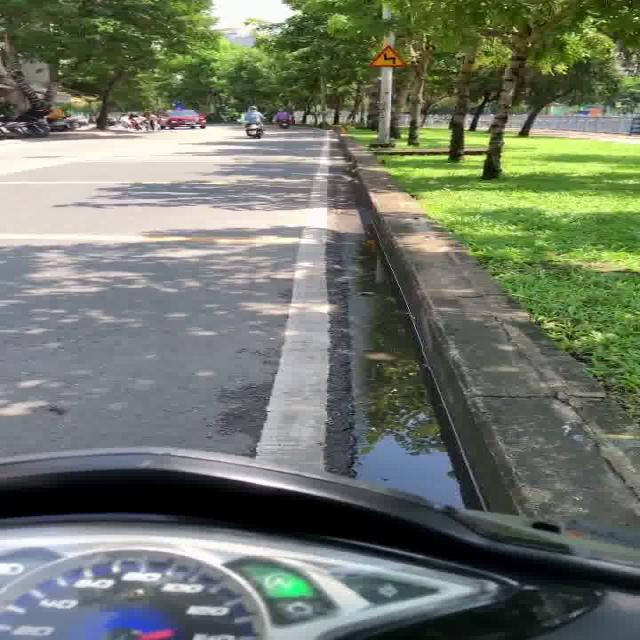Bien bao nhieu cho ngoat nguy hiem lien tiep: (364, 43, 410, 70)
